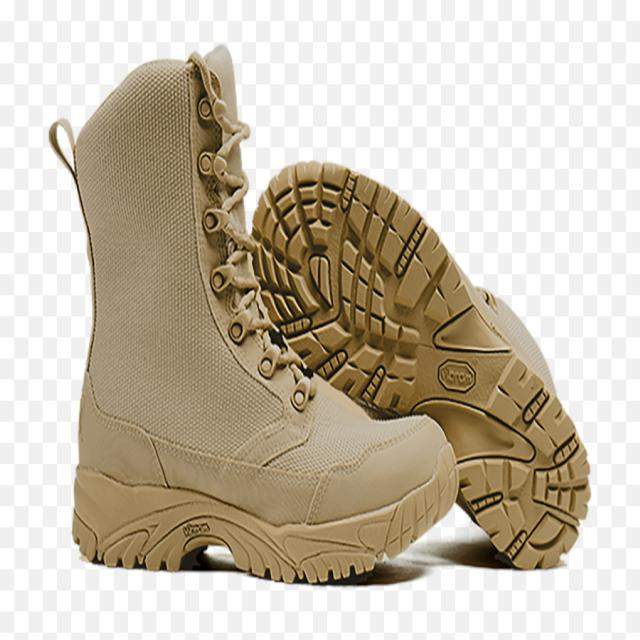boot: (39, 46, 464, 576)
